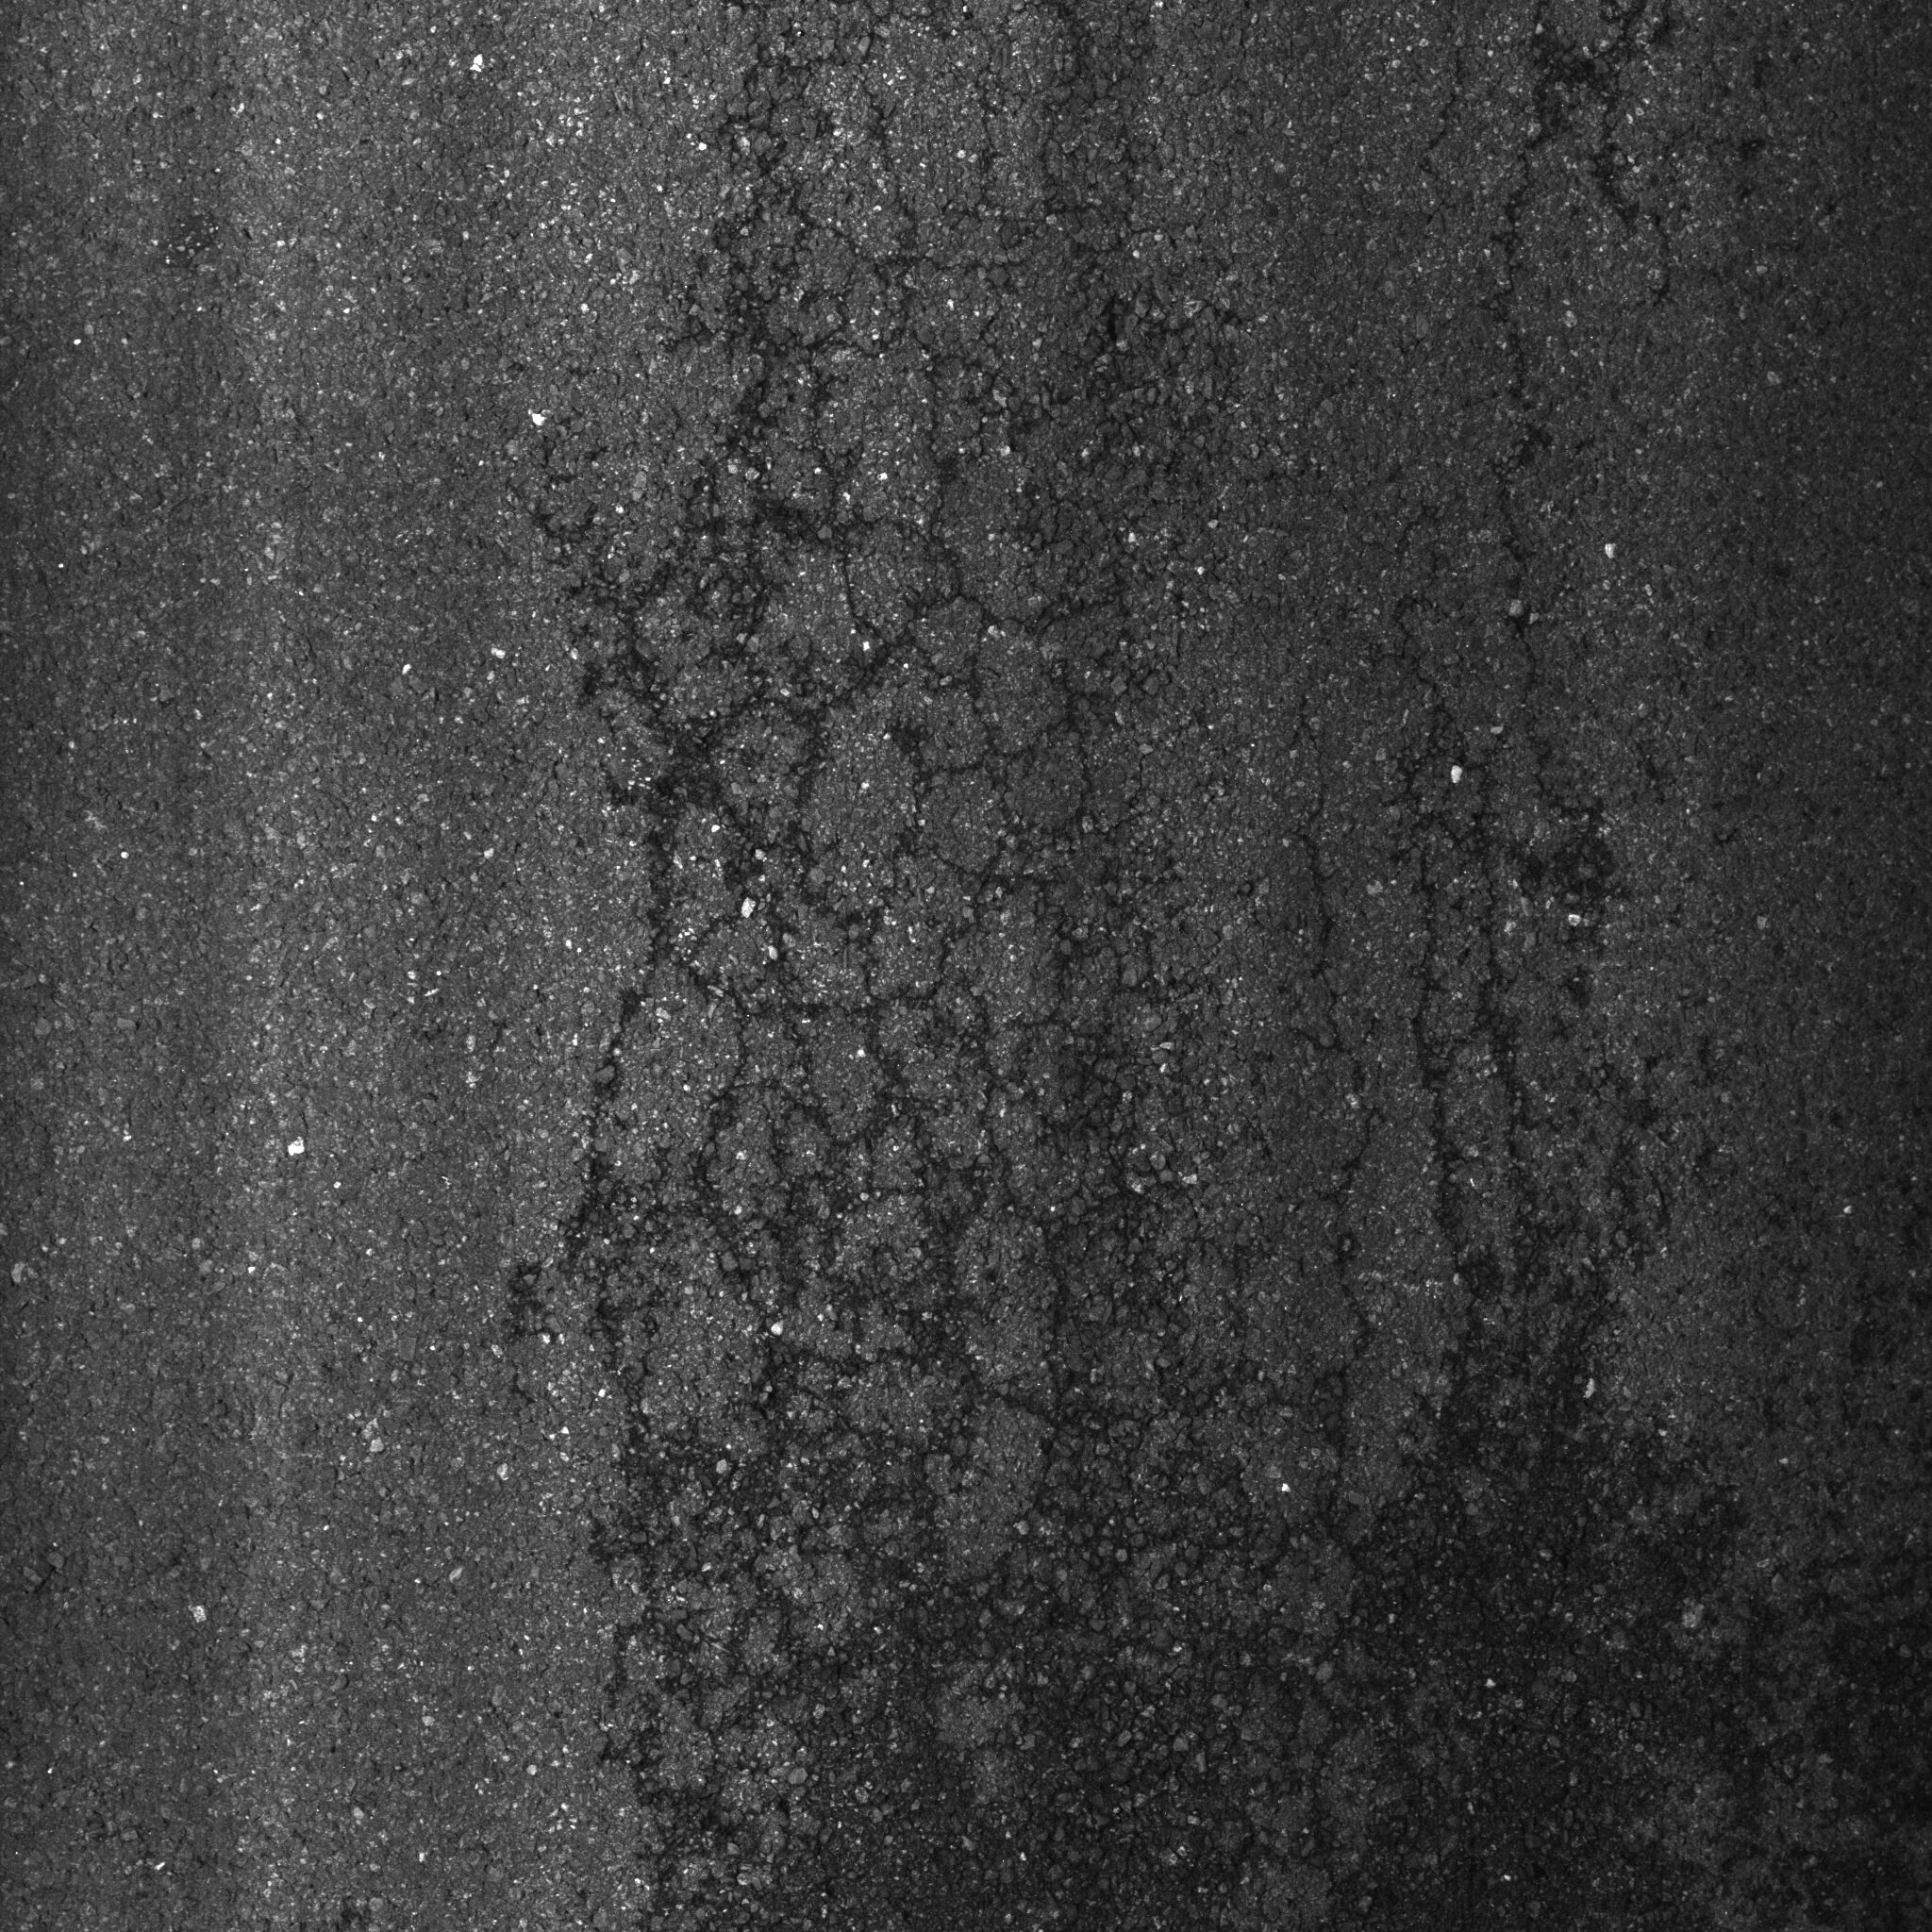alligator: (462, 19, 1861, 1932)
